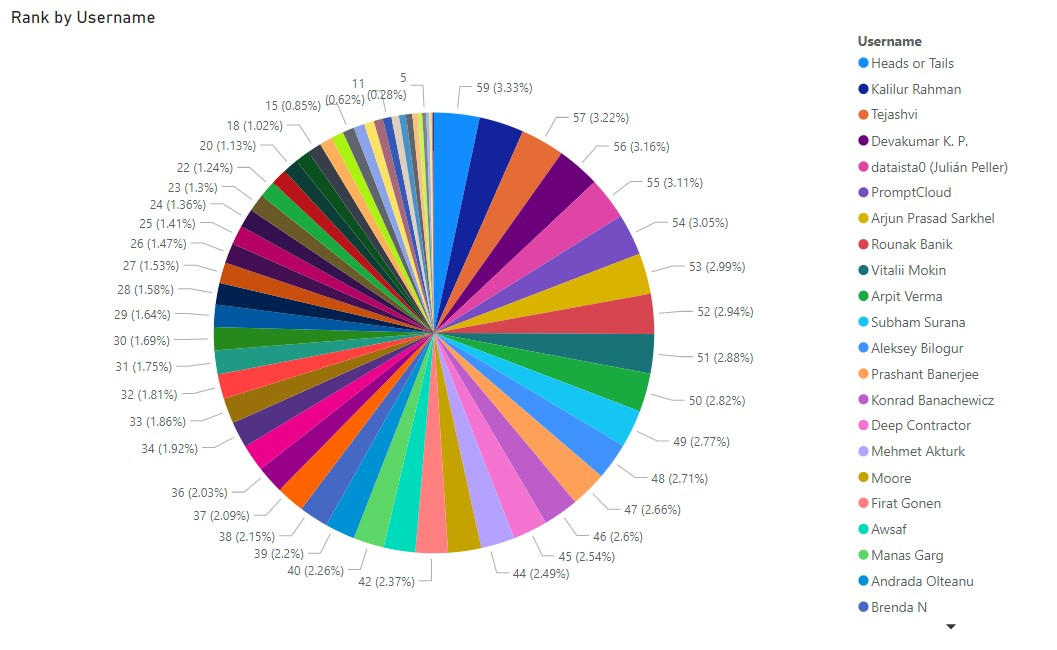

The dashboard page shown, as its layout file describes it:
{"tool":"powerbi","page":{"name":"Page 1","canvas":[1280,720],"ordinal":0},"visuals":[{"type":"pieChart","fields":{"Category":["Kaggle Datasets Ranking.Username"],"Y":["Kaggle Datasets Ranking.Rank"]},"box":[120.9,50.8,1019.1,619.4],"z":0}]}

Visuals, with their boxes on the page's 1280x720 design canvas (x1, y1, x2, y2). These are canvas units, not pixel positions in the 1057x650 screenshot, which may show the page scaled, cropped or inside an application window:
pieChart - Kaggle Datasets Ranking.Username x Kaggle Datasets Ranking.Rank: l=121, t=51, r=1140, b=670
